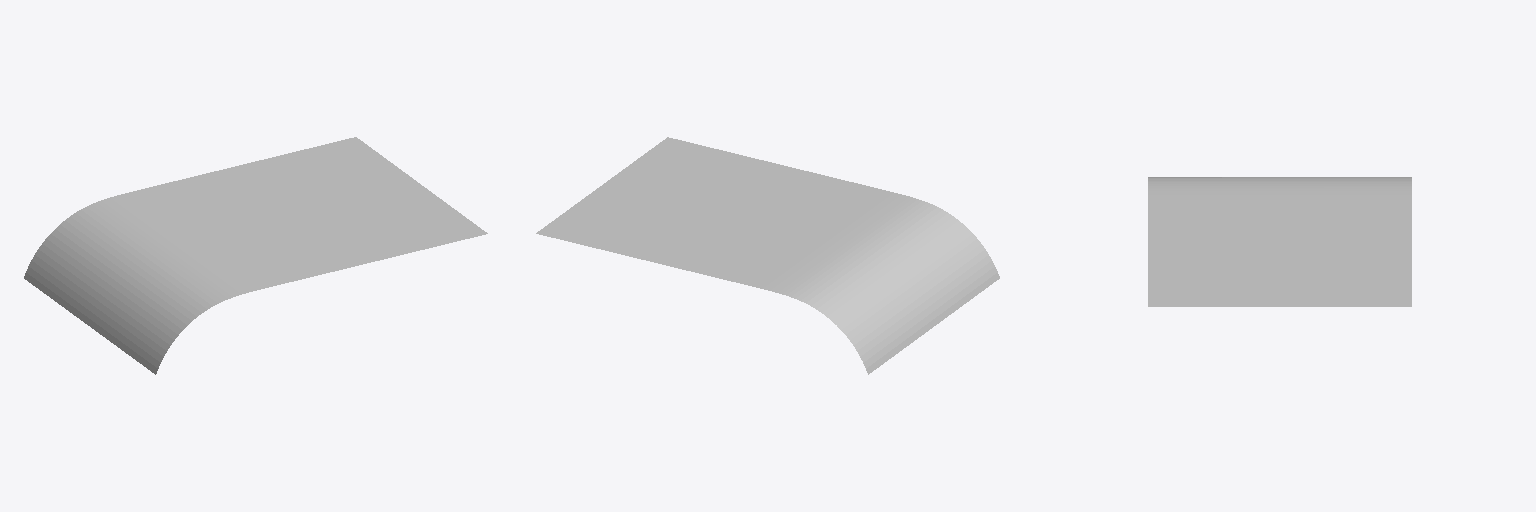
Rendered from CurvePaper_000060.obj.
The picture shows the model from 3 angles: view 1: azimuth 30°, elevation 25°; view 2: azimuth 150°, elevation 25°; view 3: azimuth 270°, elevation 25°; orthographic projection.
Parts seen in each view (by area): view 1: Plane; view 2: Plane; view 3: Plane.
Part boxes in pixels (x1,y1,x2,y2): Plane: (24, 137, 487, 374); Plane: (536, 137, 999, 374); Plane: (1148, 177, 1411, 306).
Size of the model in its own units: 3.28 by 0.5695 by 2.26.